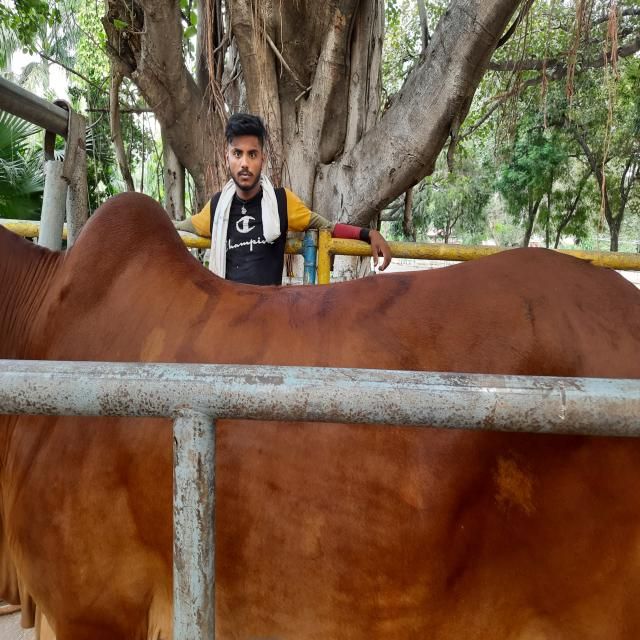cow: (1, 190, 640, 639)
hump: (55, 189, 200, 252)
